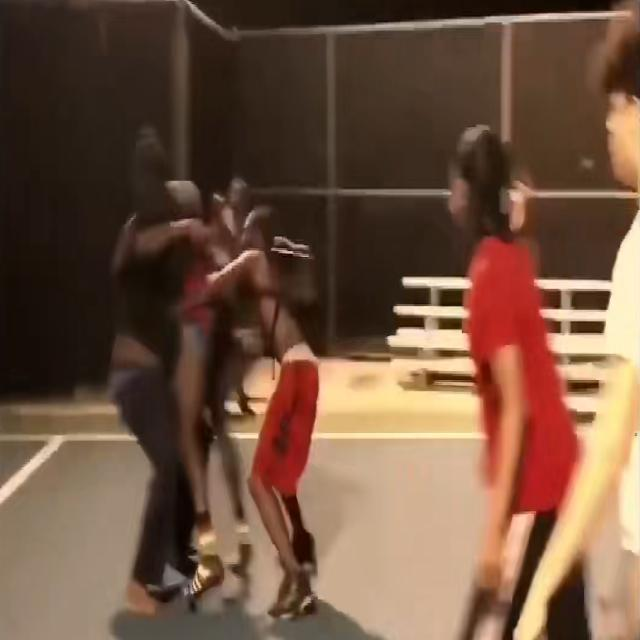fight: (102, 127, 300, 357)
nofight: (426, 118, 580, 640)
